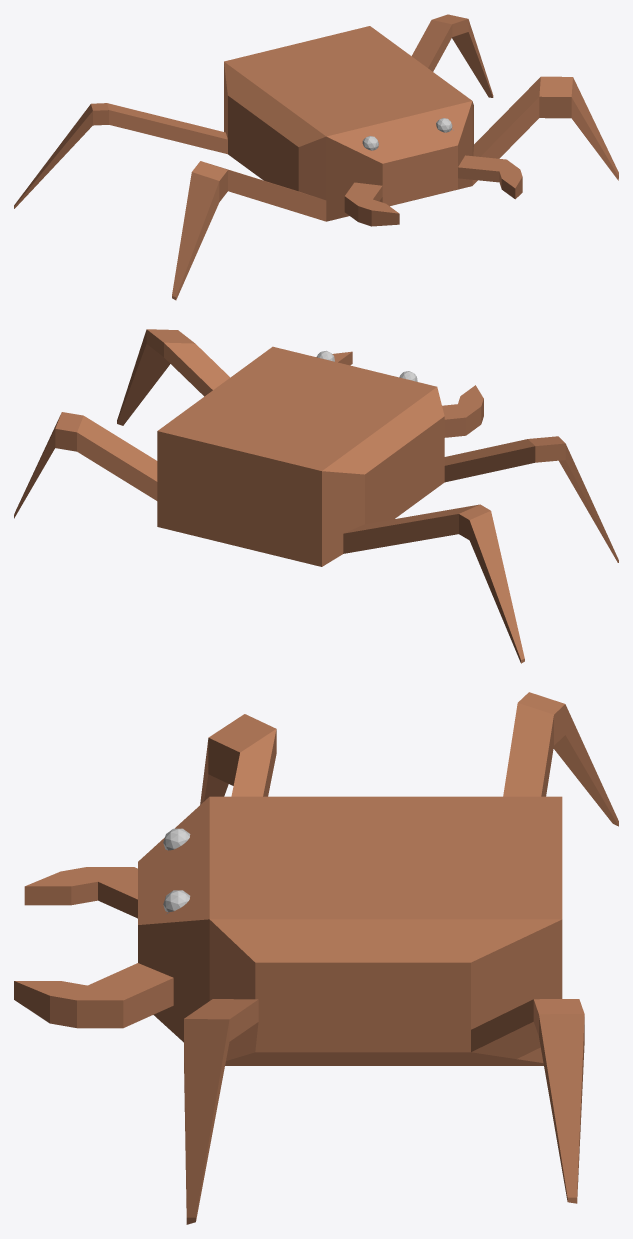
The model's file is sbire.fbx.
3 views of the same model, one above another, from view 1: azimuth 30°, elevation 25°; view 2: azimuth 150°, elevation 25°; view 3: azimuth 270°, elevation 25° (orthographic). The views are drawn at different scales.
Visible parts, largest first — view 1: Icosphere_001; view 2: Icosphere_001; view 3: Icosphere_001.
Part boxes in pixels (box(x1,y1,x2,y2)): Icosphere_001: box(14, 14, 618, 300); Icosphere_001: box(14, 329, 618, 663); Icosphere_001: box(14, 692, 618, 1224).
Size of the model in its own units: 4.6 by 1.11 by 2.89.
